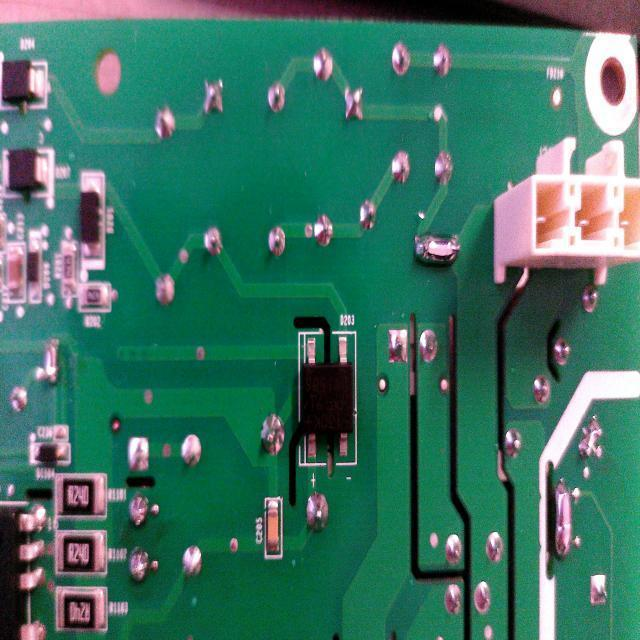Soldering shorted: (409, 221, 466, 276), (548, 471, 578, 568), (576, 408, 606, 468), (42, 330, 62, 390)
